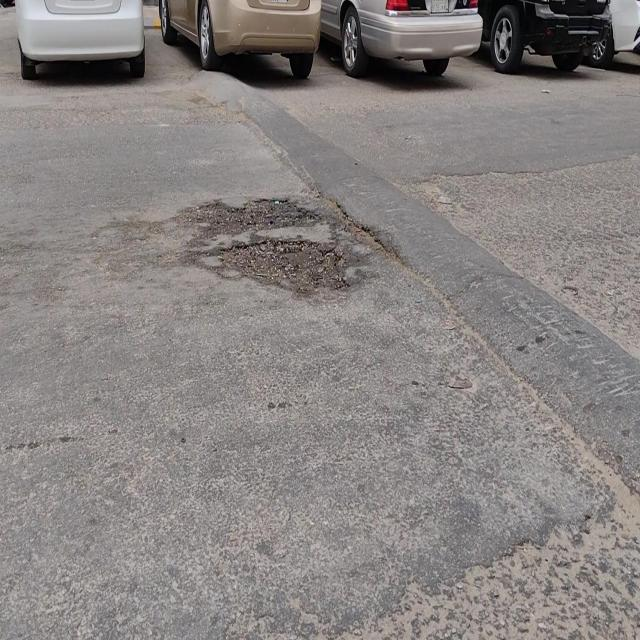Potholes: (209, 235, 350, 294), (193, 194, 318, 241)
